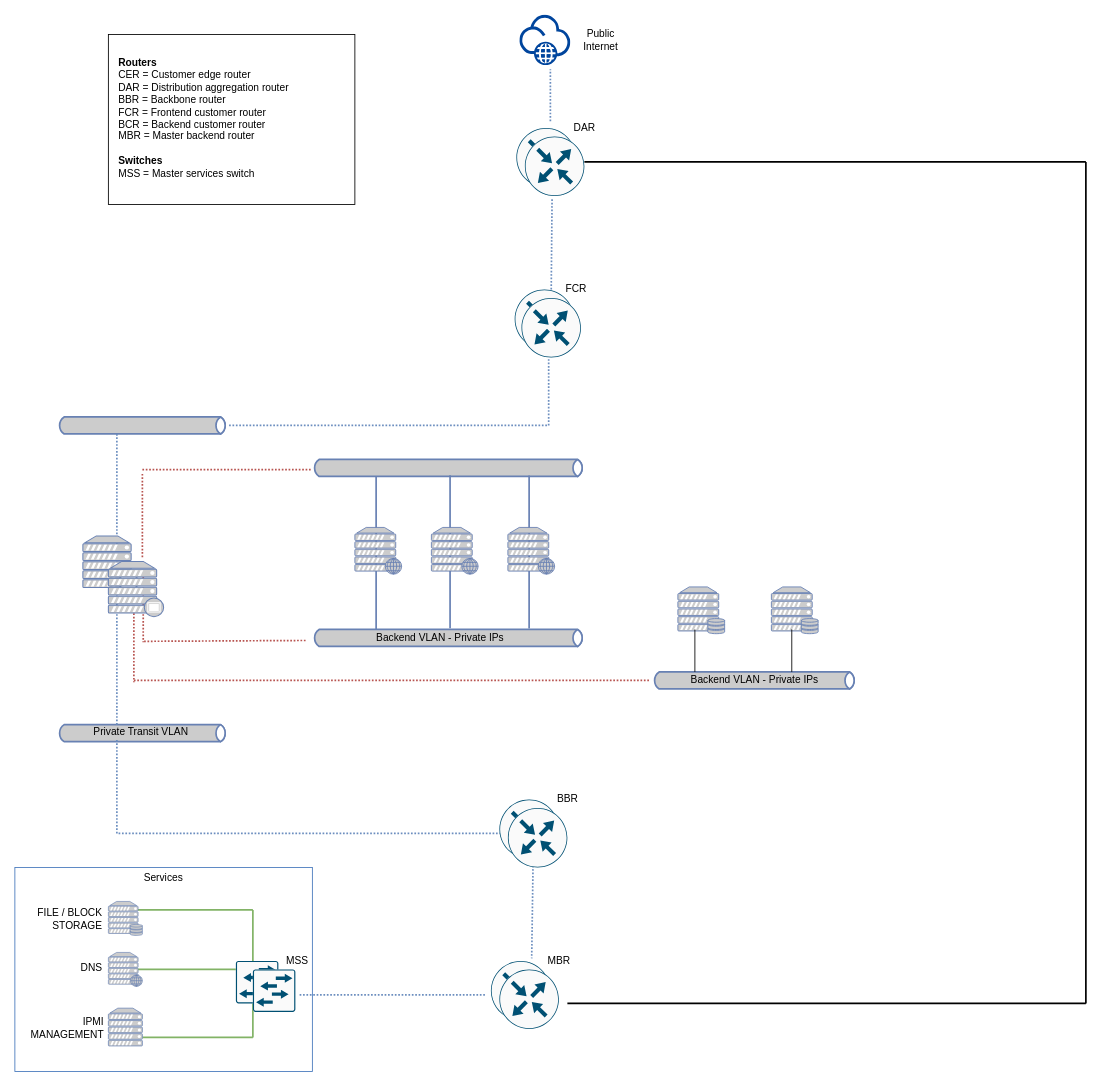
Some shapes in this 1102 by 1086 pixel diagram are drawn without their labels. Here are the shapes that lost their labels. From the top down, the box of each, then its label:
(56, 390, 228, 460): Public Transit VLAN
(311, 458, 585, 477): Frontend VLAN - Public IPs
